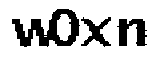0: (50, 5, 79, 47)
n: (116, 16, 149, 50)
w: (8, 17, 52, 49)
x: (80, 16, 112, 49)
